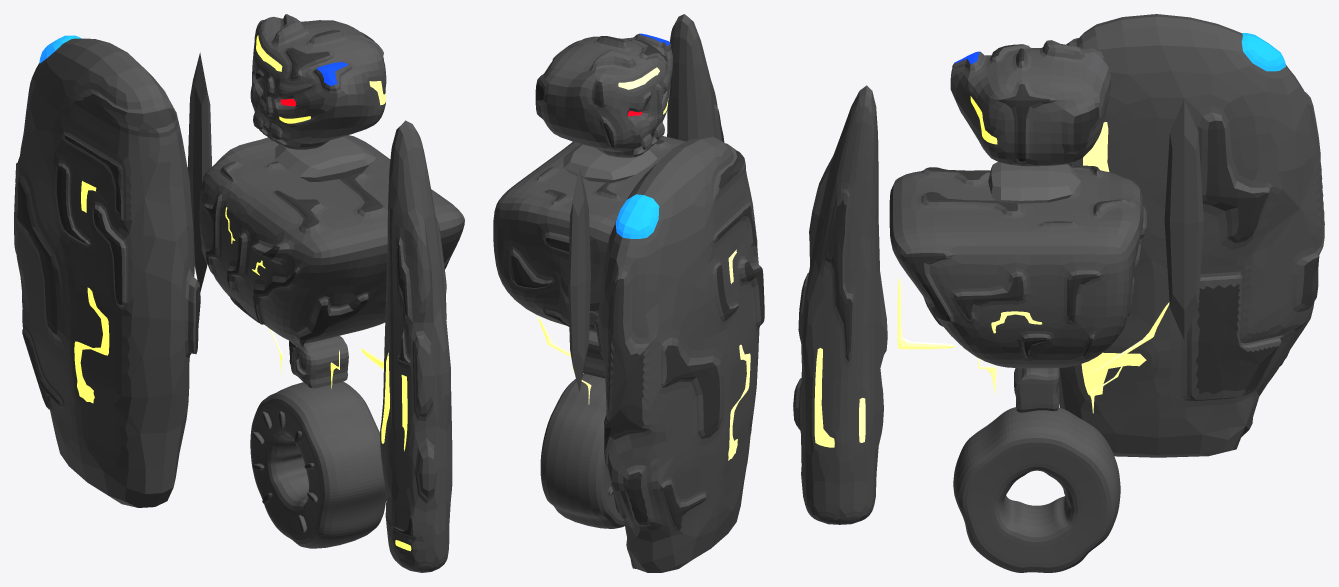
Rendered from ShieldEnemy.fbx.
3 renders of one model, left to right at view 1: azimuth 30°, elevation 25°; view 2: azimuth 150°, elevation 25°; view 3: azimuth 270°, elevation 25°, orthographic. The views are drawn at different scales.
Parts seen in each view (by area): view 1: 立方体.008, 立方体.003, 立方体.007, 柱体, 立方体.011, 立方体.009, 立方体.010, 立方体.002; view 2: 立方体.008, 立方体.003, 立方体.011, 柱体, 立方体.007, 立方体.009, 立方体.010, 立方体.002; view 3: 立方体.008, 立方体.003, 立方体.007, 柱体, 立方体.011, 立方体.009, 立方体.010, 立方体.002, 立方体.004.
Boxes of the visible parts, <box> form: 立方体.008: <box>14,35,200,507</box>; 立方体.003: <box>199,135,464,347</box>; 立方体.007: <box>380,120,452,572</box>; 柱体: <box>250,381,386,548</box>; 立方体.011: <box>250,14,386,149</box>; 立方体.009: <box>187,52,211,291</box>; 立方体.010: <box>275,136,376,181</box>; 立方体.002: <box>289,336,348,388</box>; 立方体.008: <box>594,137,764,572</box>; 立方体.003: <box>493,136,685,332</box>; 立方体.011: <box>535,33,673,157</box>; 柱体: <box>540,373,624,528</box>; 立方体.007: <box>667,14,724,142</box>; 立方体.009: <box>568,167,590,391</box>; 立方体.010: <box>563,144,657,183</box>; 立方体.002: <box>583,331,605,378</box>; 立方体.008: <box>1058,14,1324,457</box>; 立方体.003: <box>889,165,1146,368</box>; 立方体.007: <box>793,85,887,524</box>; 柱体: <box>953,407,1120,572</box>; 立方体.011: <box>950,40,1111,166</box>; 立方体.009: <box>1164,100,1203,340</box>; 立方体.010: <box>988,162,1081,203</box>; 立方体.002: <box>1014,368,1059,412</box>; 立方体.004: <box>897,277,996,393</box>.
Size of the model in its own units: 217 by 378 by 356.
